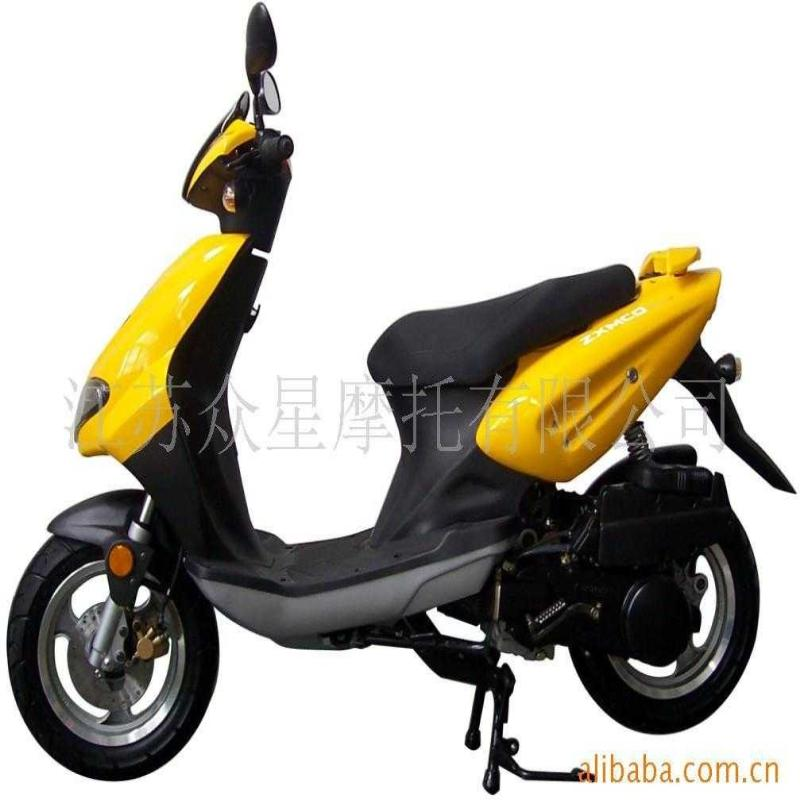bike: (0, 4, 791, 771)
